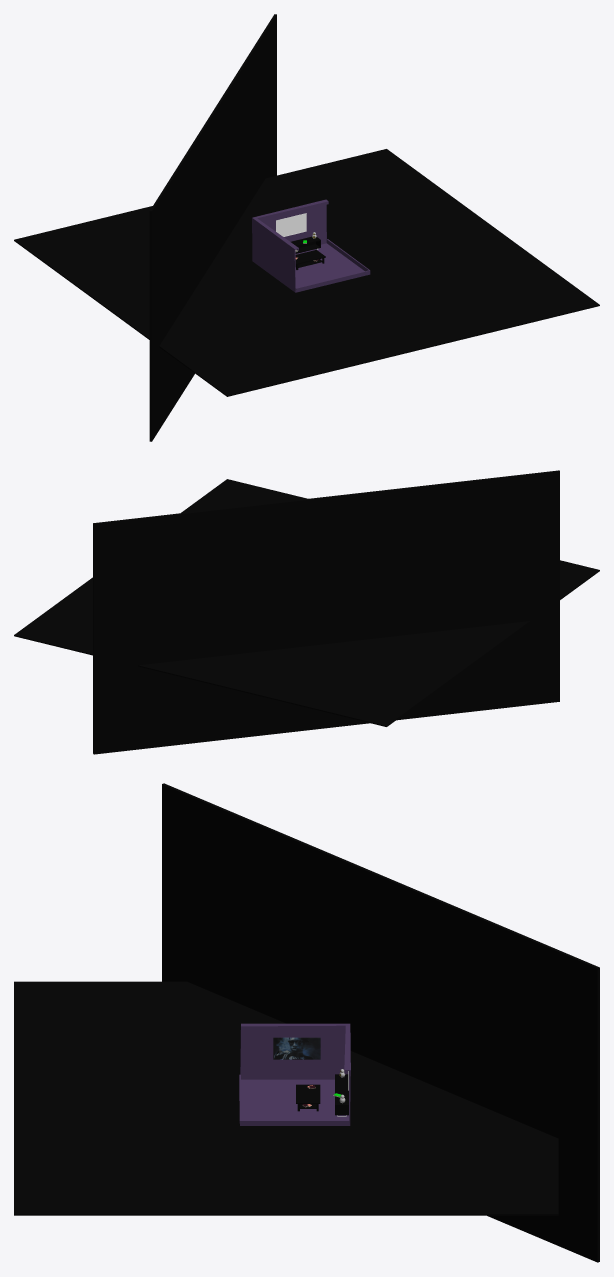
Rendered from iso.glb.
3 renders of one model, top to bottom at view 1: azimuth 30°, elevation 25°; view 2: azimuth 150°, elevation 25°; view 3: azimuth 270°, elevation 25°, orthographic. The views are drawn at different scales.
Visible parts, largest first — view 1: ground, ground.001, structure, tv; view 2: ground.001, ground; view 3: ground, ground.001, structure, nino.
Boxes of the visible parts, left/top/right/bottom form: ground: left=14, top=149, right=599, bottom=396; ground.001: left=149, top=14, right=276, bottom=441; structure: left=252, top=199, right=370, bottom=292; tv: left=276, top=213, right=306, bottom=236; ground.001: left=93, top=470, right=559, bottom=754; ground: left=14, top=479, right=599, bottom=726; ground: left=14, top=981, right=558, bottom=1215; ground.001: left=162, top=783, right=599, bottom=1262; structure: left=239, top=1023, right=350, bottom=1125; nino: left=273, top=1037, right=320, bottom=1059.
Size of the model in its own units: 42.69 by 24 by 43.32.
18 materials, 1 textured.
